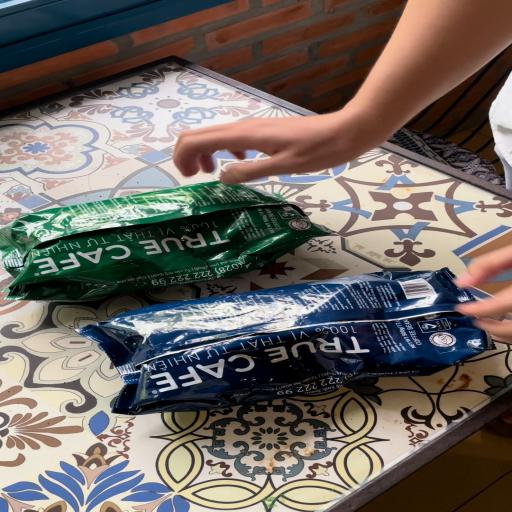cafe_hat: (76, 268, 492, 415)
cafe_xay: (0, 181, 333, 300)
